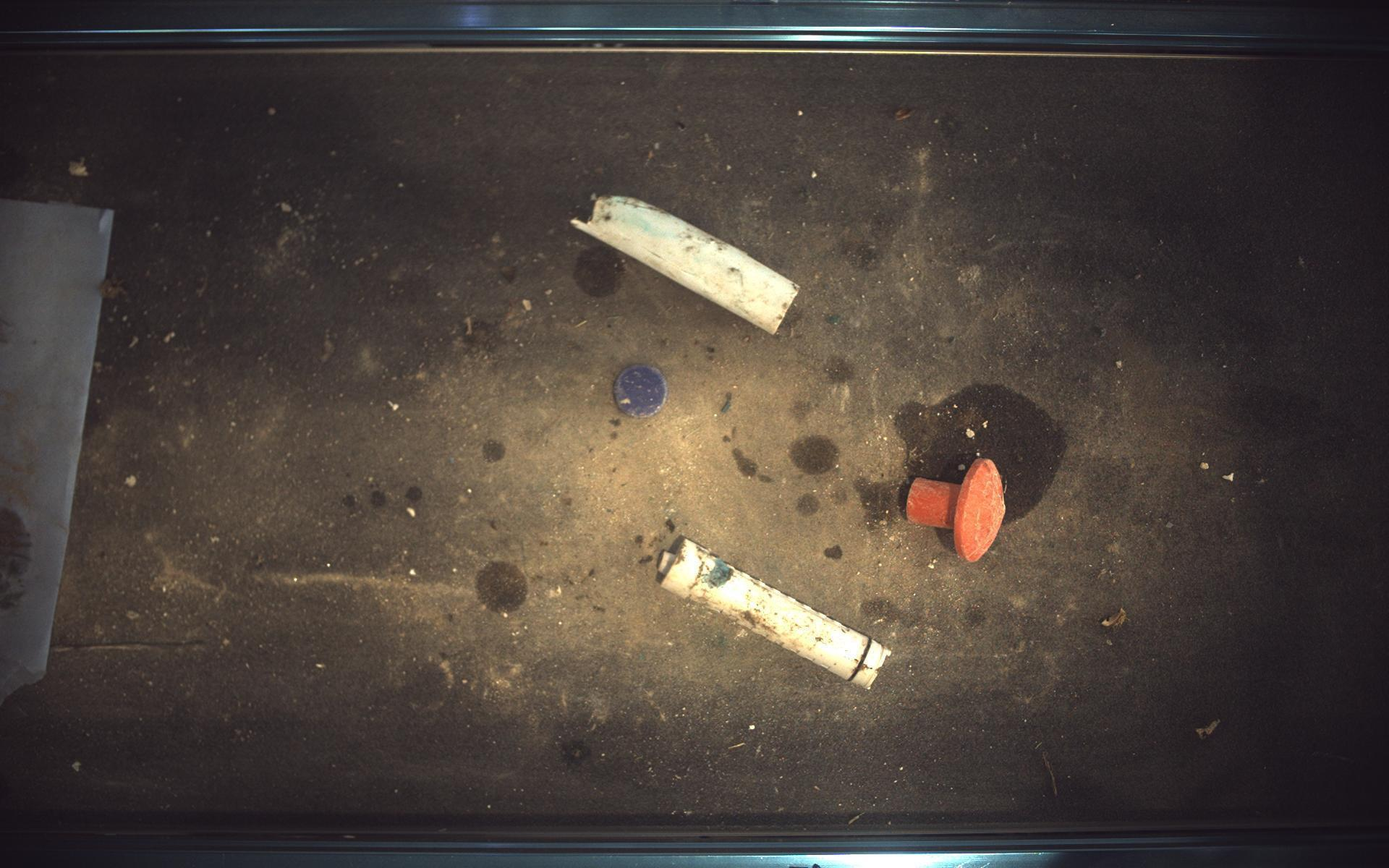plastic: (657, 537, 892, 690), (572, 196, 799, 333), (908, 459, 1008, 562)
